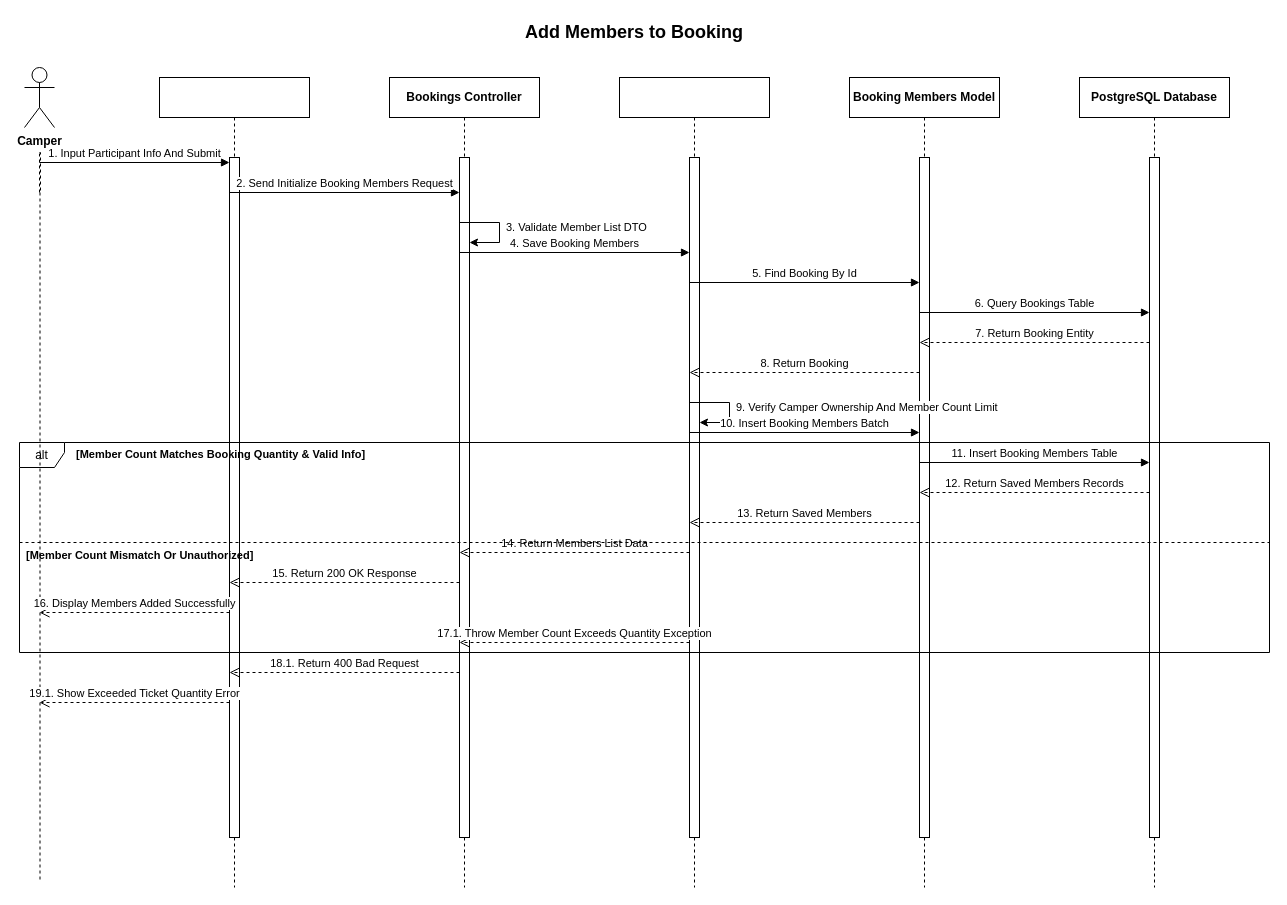
This 1287x905 diagram has some shape labels left out. Here are the shapes that lost their labels. From the top down, the box of each, then its label:
(158, 76, 310, 888): Booking Participants Modal
(618, 76, 770, 888): Bookings Members Service
